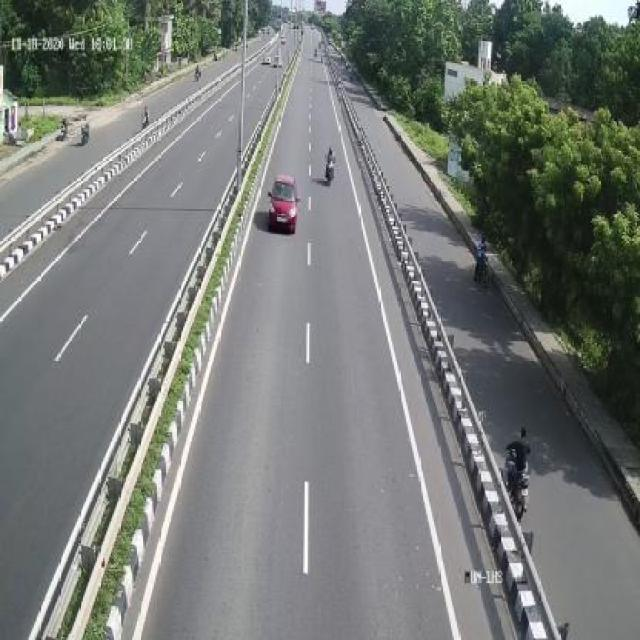car: (269, 171, 302, 234)
